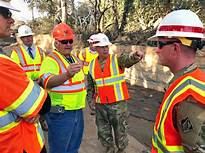Helmet: (148, 5, 205, 68), (84, 30, 120, 58), (51, 20, 77, 56), (15, 22, 39, 50)
Reflective vest: (146, 68, 205, 153), (1, 57, 48, 153), (42, 50, 87, 113), (89, 55, 131, 106), (13, 45, 47, 79)
